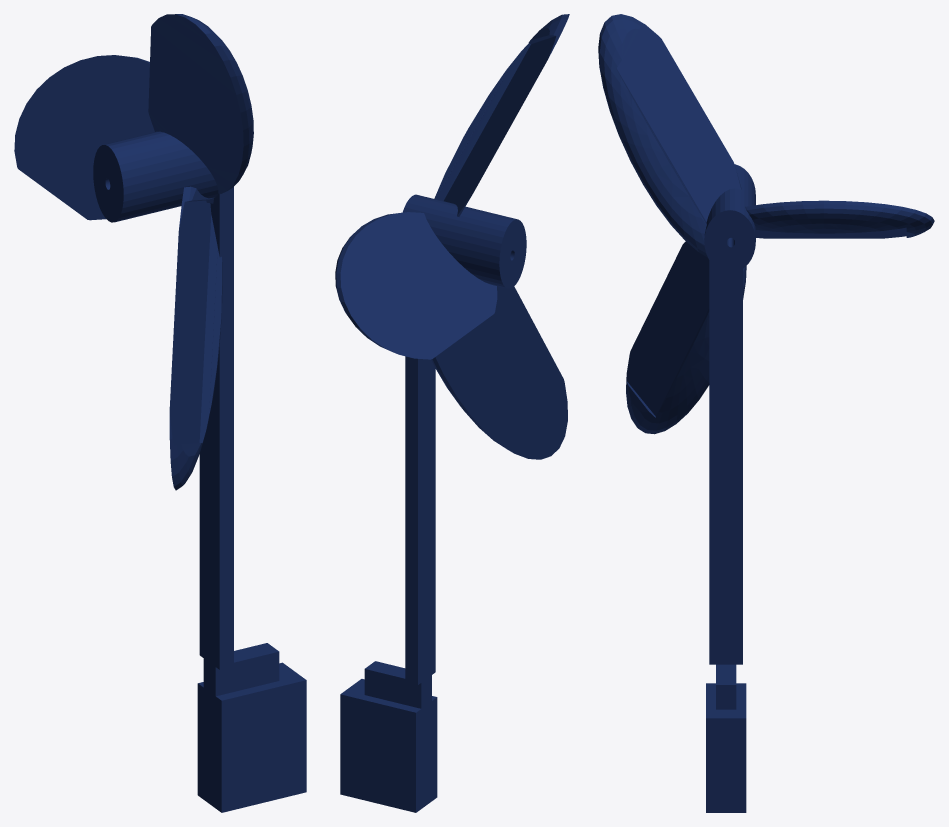
The model's file is airPropeller.obj.
The picture shows the model from 3 angles, left to right: view 1: azimuth 30°, elevation 25°; view 2: azimuth 150°, elevation 25°; view 3: azimuth 270°, elevation 25°; orthographic projection. The views are drawn at different scales.
Parts seen in each view (by area): view 1: obj_0; view 2: obj_0; view 3: obj_0.
Boxes of the visible parts, left/top/right/bottom form: obj_0: left=14, top=14, right=306, bottom=812; obj_0: left=335, top=14, right=569, bottom=812; obj_0: left=598, top=14, right=934, bottom=812.
Size of the model in its own units: 8.51 by 38 by 16.
